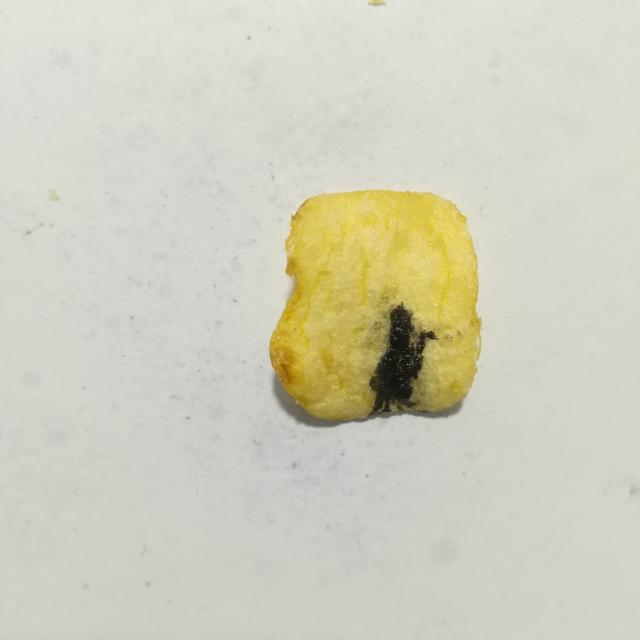chip: (270, 190, 481, 420)
damaged: (369, 303, 437, 414)
